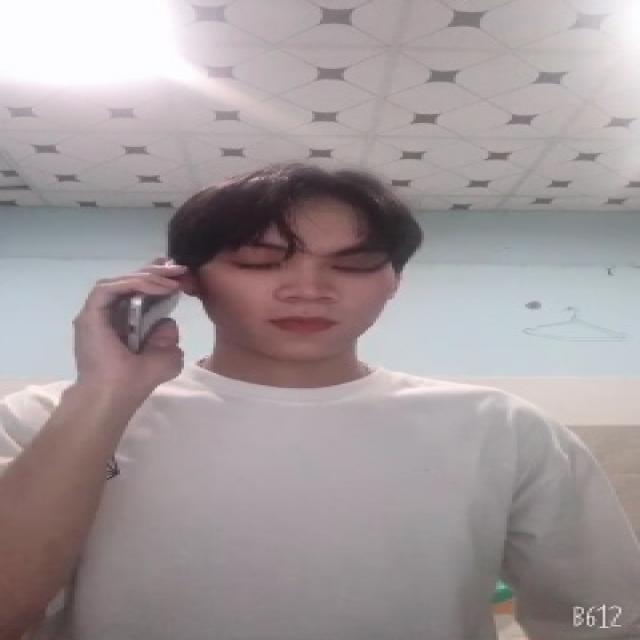Phone: (122, 256, 187, 356)
